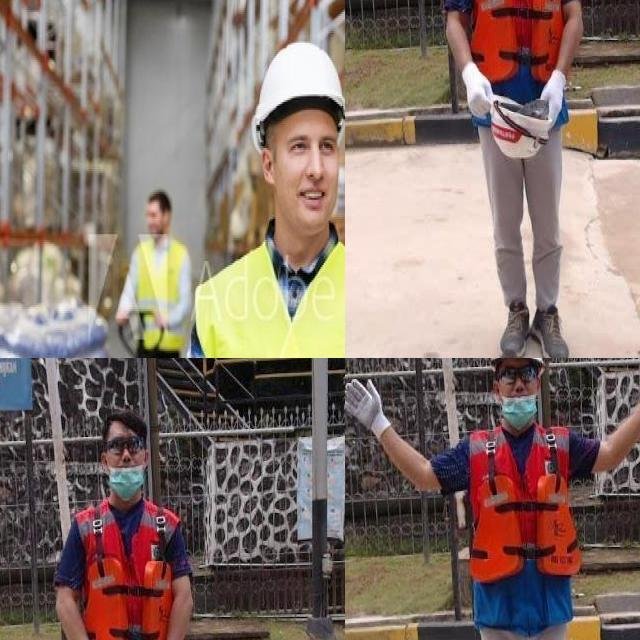BOOTS: (530, 300, 573, 358), (497, 298, 530, 358)
GLASS: (493, 366, 540, 385), (103, 437, 145, 456)
GLOVE: (345, 377, 394, 444), (462, 61, 496, 119), (541, 70, 568, 128)
HELMET: (244, 31, 345, 146), (491, 92, 552, 160), (492, 358, 546, 372)
VEST: (472, 421, 581, 633), (201, 247, 345, 358), (74, 497, 179, 640), (466, 0, 571, 127), (132, 237, 188, 355)
